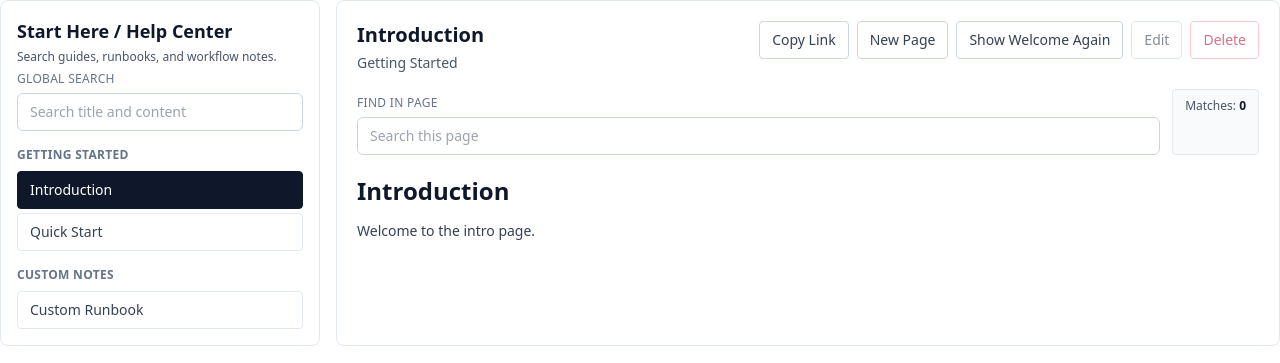
Test: HelpCenterPage smoke › navigates pages and applies global search result as in-page search
Expected: the 2nd heading "Introduction" is shown, top-left (357, 174), bottom-right (510, 207)
Click the button "Quick Start" at coordinates (66, 232), box top-left (17, 213), bottom-right (303, 251)
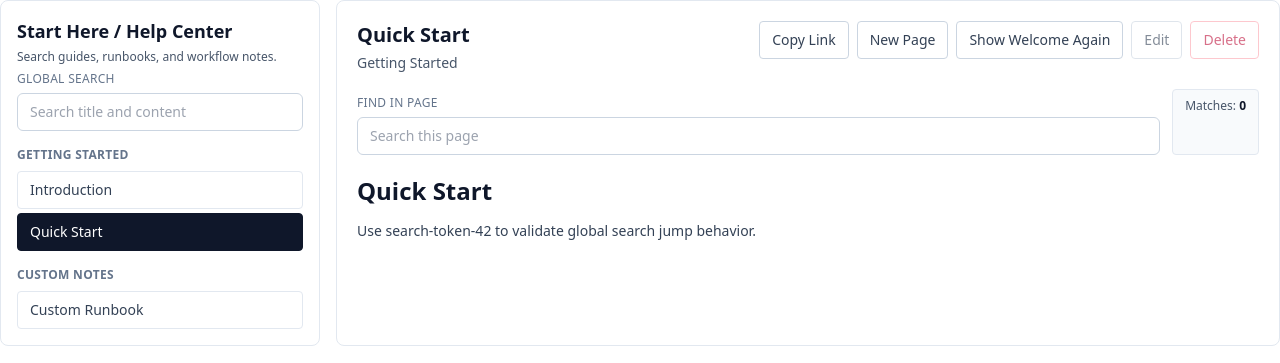
Expected: the text "Use search-token-42 to validate global search jump behavior." is shown, top-left (357, 221), bottom-right (756, 240)
Type "search-token-42" into the field with placeholder "Search title and content" at coordinates (160, 112), box top-left (17, 93), bottom-right (303, 131)
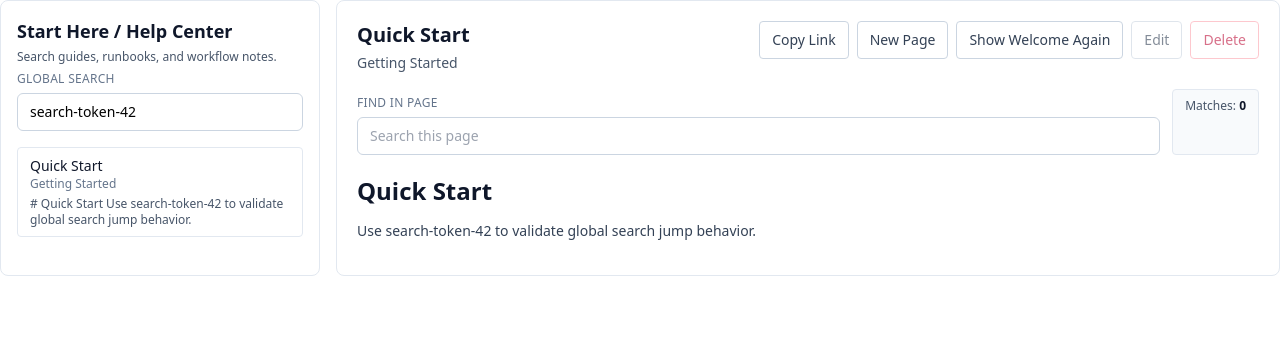
Click the button "Quick Start" at coordinates (160, 192), box top-left (17, 147), bottom-right (303, 237)
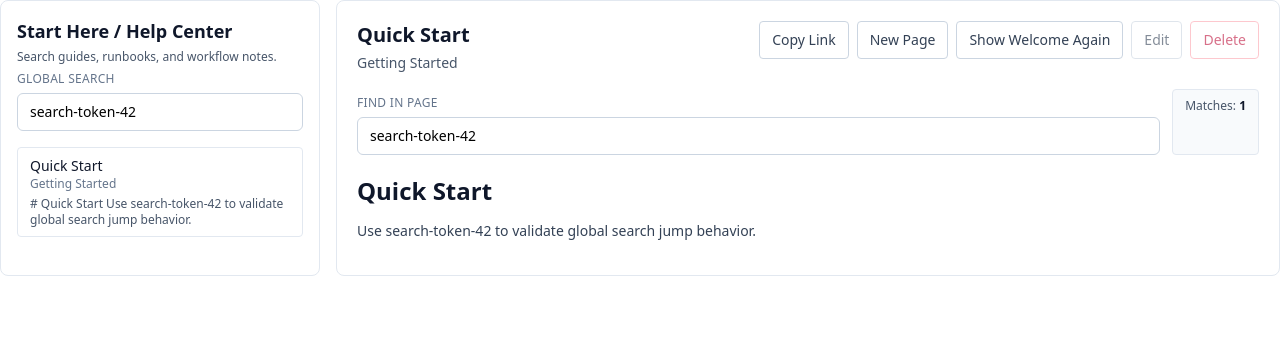
Expected: the 2nd heading "Quick Start" is shown, top-left (357, 174), bottom-right (492, 207)
Expected: the field with placeholder "Search this page" holds "search-token-42", top-left (357, 117), bottom-right (1160, 155)
